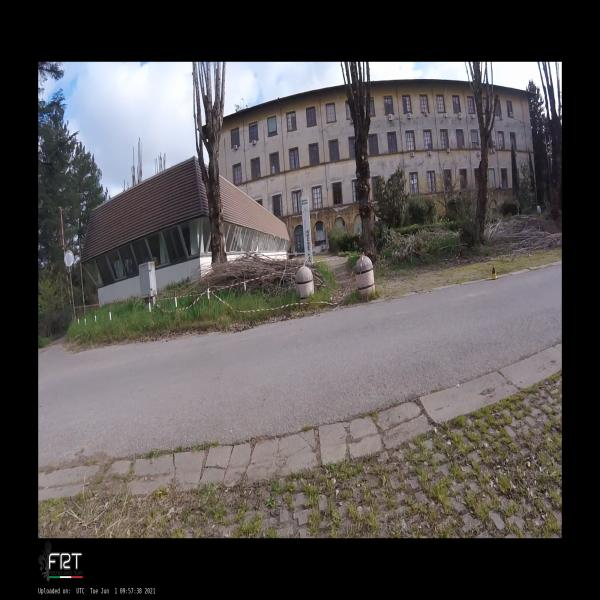yellow_cone: (491, 263, 497, 279)
